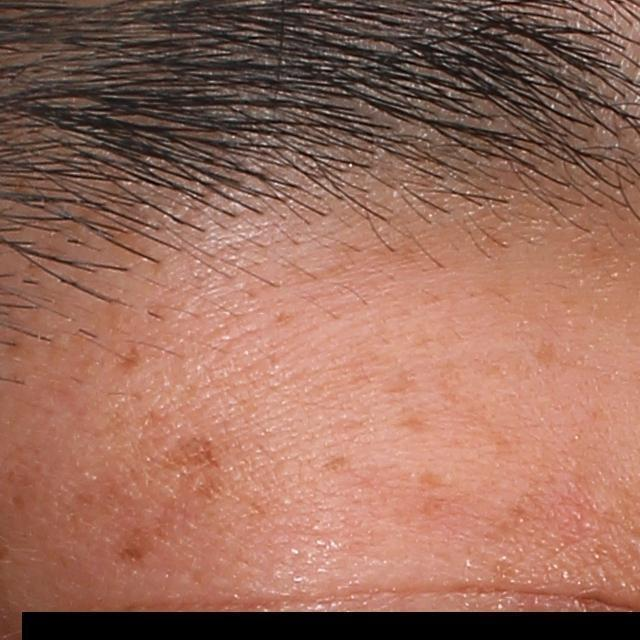melasma: (148, 435, 222, 475), (115, 520, 175, 562), (395, 406, 442, 434), (316, 453, 357, 476), (113, 342, 142, 374), (413, 469, 456, 490), (530, 342, 560, 369), (7, 492, 25, 513)
